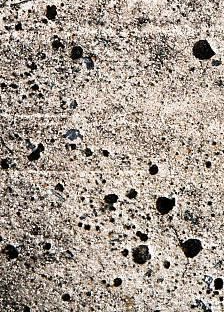Spalling: (1, 1, 224, 312)
